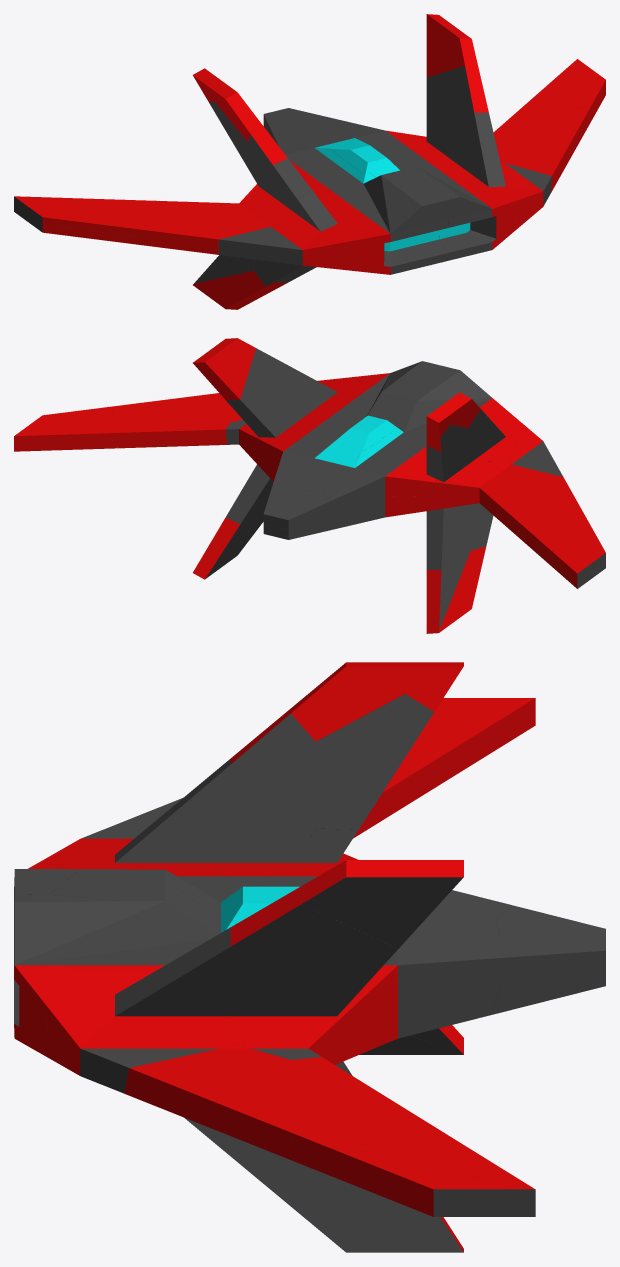
Rendered from Enemy_Boss_Fractured.fbx.
The picture shows the model from 3 angles, top to bottom: view 1: azimuth 30°, elevation 25°; view 2: azimuth 150°, elevation 25°; view 3: azimuth 270°, elevation 25°; orthographic projection. The views are drawn at different scales.
Visible parts, largest first — view 1: Enemy_Boss_JetTurret_Frac_cell.017, Enemy_Boss_JetTurret_Frac_cell.028, Enemy_Boss_JetTurret_Frac_cell.020, Enemy_Boss_JetTurret_Frac_cell.010, Enemy_Boss_JetTurret_Frac_cell.019, Enemy_Boss_JetTurret_Frac_cell.016, Enemy_Boss_JetTurret_Frac_cell.026, Enemy_Boss_JetTurret_Frac_cell.021, Enemy_Boss_JetTurret_Frac_cell.002, Enemy_Boss_JetTurret_Frac_cell, Enemy_Boss_JetTurret_Frac_cell.018, Enemy_Boss_JetTurret_Frac_cell.007 (+12 smaller); view 2: Enemy_Boss_JetTurret_Frac_cell.017, Enemy_Boss_JetTurret_Frac_cell.028, Enemy_Boss_JetTurret_Frac_cell.025, Enemy_Boss_JetTurret_Frac_cell, Enemy_Boss_JetTurret_Frac_cell.014, Enemy_Boss_JetTurret_Frac_cell.026, Enemy_Boss_JetTurret_Frac_cell.011, Enemy_Boss_JetTurret_Frac_cell.020, Enemy_Boss_JetTurret_Frac_cell.010, Enemy_Boss_JetTurret_Frac_cell.024, Enemy_Boss_JetTurret_Frac_cell.001, Enemy_Boss_JetTurret_Frac_cell.009 (+17 smaller); view 3: Enemy_Boss_JetTurret_Frac_cell.020, Enemy_Boss_JetTurret_Frac_cell.028, Enemy_Boss_JetTurret_Frac_cell.018, Enemy_Boss_JetTurret_Frac_cell, Enemy_Boss_JetTurret_Frac_cell.007, Enemy_Boss_JetTurret_Frac_cell.022, Enemy_Boss_JetTurret_Frac_cell.016, Enemy_Boss_JetTurret_Frac_cell.024, Enemy_Boss_JetTurret_Frac_cell.015, Enemy_Boss_JetTurret_Frac_cell.014, Enemy_Boss_JetTurret_Frac_cell.003, Enemy_Boss_JetTurret_Frac_cell.010 (+14 smaller).
Boxes of the visible parts, box(x1,y1,x2,y2) form: Enemy_Boss_JetTurret_Frac_cell.017: box(137, 168, 302, 286); Enemy_Boss_JetTurret_Frac_cell.028: box(390, 65, 497, 171); Enemy_Boss_JetTurret_Frac_cell.020: box(413, 112, 551, 224); Enemy_Boss_JetTurret_Frac_cell.010: box(274, 171, 392, 274); Enemy_Boss_JetTurret_Frac_cell.019: box(349, 192, 452, 271); Enemy_Boss_JetTurret_Frac_cell.016: box(430, 175, 521, 260); Enemy_Boss_JetTurret_Frac_cell.026: box(14, 196, 149, 238); Enemy_Boss_JetTurret_Frac_cell.021: box(219, 225, 351, 270); Enemy_Boss_JetTurret_Frac_cell.002: box(362, 167, 447, 274); Enemy_Boss_JetTurret_Frac_cell: box(292, 119, 395, 177); Enemy_Boss_JetTurret_Frac_cell.018: box(248, 124, 353, 220); Enemy_Boss_JetTurret_Frac_cell.007: box(497, 124, 581, 192); Enemy_Boss_JetTurret_Frac_cell.017: box(430, 454, 579, 550); Enemy_Boss_JetTurret_Frac_cell.028: box(225, 348, 378, 483); Enemy_Boss_JetTurret_Frac_cell.025: box(321, 430, 437, 514); Enemy_Boss_JetTurret_Frac_cell: box(273, 415, 394, 492); Enemy_Boss_JetTurret_Frac_cell.014: box(112, 402, 230, 448); Enemy_Boss_JetTurret_Frac_cell.026: box(523, 507, 605, 581); Enemy_Boss_JetTurret_Frac_cell.011: box(426, 522, 470, 633); Enemy_Boss_JetTurret_Frac_cell.020: box(290, 366, 393, 418); Enemy_Boss_JetTurret_Frac_cell.010: box(388, 394, 523, 463); Enemy_Boss_JetTurret_Frac_cell.024: box(193, 338, 255, 400); Enemy_Boss_JetTurret_Frac_cell.001: box(263, 483, 331, 529); Enemy_Boss_JetTurret_Frac_cell.009: box(204, 477, 273, 579); Enemy_Boss_JetTurret_Frac_cell.020: box(43, 897, 236, 1147); Enemy_Boss_JetTurret_Frac_cell.028: box(201, 885, 397, 1075); Enemy_Boss_JetTurret_Frac_cell.018: box(170, 713, 315, 891); Enemy_Boss_JetTurret_Frac_cell: box(208, 886, 503, 1038); Enemy_Boss_JetTurret_Frac_cell.007: box(124, 1044, 296, 1162); Enemy_Boss_JetTurret_Frac_cell.022: box(227, 1137, 463, 1252); Enemy_Boss_JetTurret_Frac_cell.016: box(14, 894, 119, 1059); Enemy_Boss_JetTurret_Frac_cell.024: box(301, 860, 463, 948); Enemy_Boss_JetTurret_Frac_cell.015: box(315, 694, 434, 829); Enemy_Boss_JetTurret_Frac_cell.014: box(291, 1057, 431, 1177); Enemy_Boss_JetTurret_Frac_cell.003: box(335, 1148, 532, 1216); Enemy_Boss_JetTurret_Frac_cell.010: box(44, 809, 235, 916).
Bounding box in the file's own units: 28.75 × 10.61 × 14.63.
